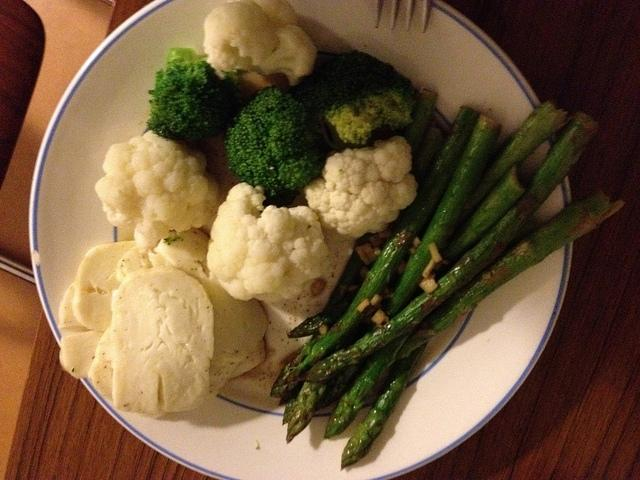asparagus: (297, 111, 600, 383), (322, 191, 622, 437), (270, 105, 480, 396), (316, 117, 502, 410), (279, 88, 439, 406), (449, 99, 574, 242), (367, 116, 445, 272), (342, 341, 428, 470), (286, 382, 328, 444)
broccoli: (294, 50, 418, 149), (224, 84, 326, 197), (146, 48, 247, 144)
cauliflower: (95, 129, 222, 260), (207, 182, 336, 303), (304, 136, 418, 239), (202, 3, 317, 87)
